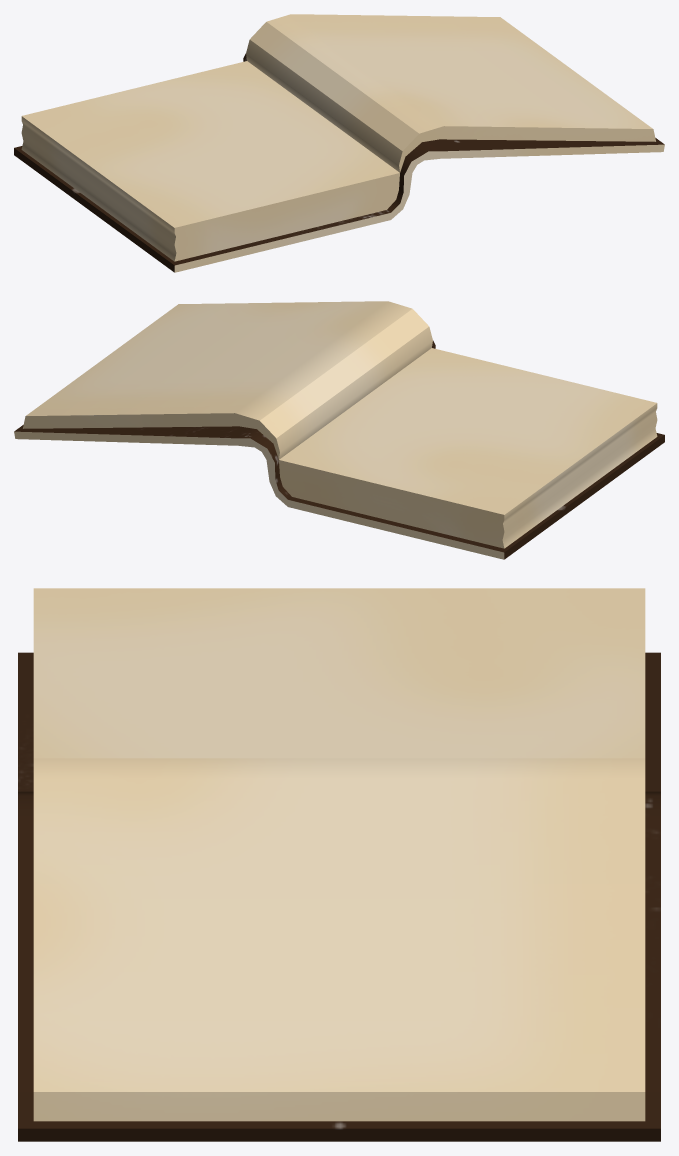
Rendered from book_open1.fbx.
3 views of the same model, one above another, from view 1: azimuth 30°, elevation 25°; view 2: azimuth 150°, elevation 25°; view 3: azimuth 270°, elevation 25° (orthographic). The views are drawn at different scales.
Parts seen in each view (by area): view 1: polySurface26, polySurface27, pCube31; view 2: polySurface26, polySurface27, pCube31; view 3: polySurface27, polySurface26, pCube31.
Part boxes in pixels (x1,y1,x2,y2): polySurface26: (21,61,399,261); polySurface27: (246,14,655,172); pCube31: (14,53,664,272); polySurface26: (279,348,657,548); polySurface27: (23,301,432,459); pCube31: (14,340,664,559); polySurface27: (33,758,645,1121); polySurface26: (33,588,645,758); pCube31: (18,652,660,1141).
Bounding box in the file's own units: 26.16 × 3.94 × 14.86.
1 material, 1 textured.
